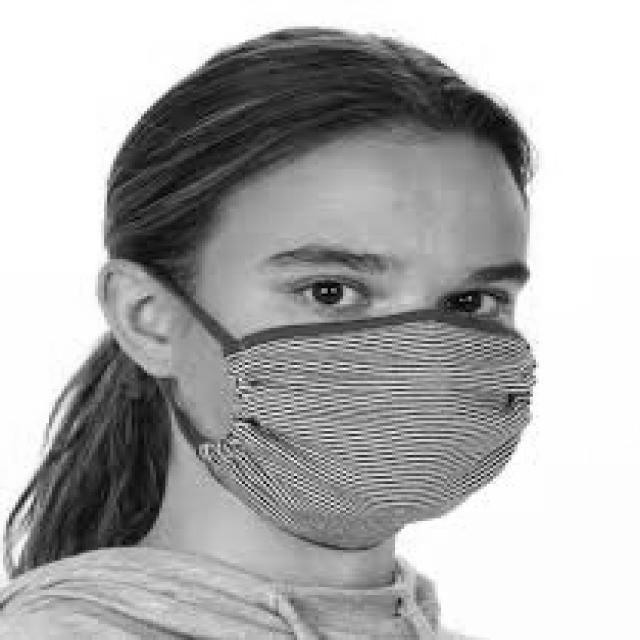fake: (195, 312, 540, 554)
real: (189, 131, 525, 552)
